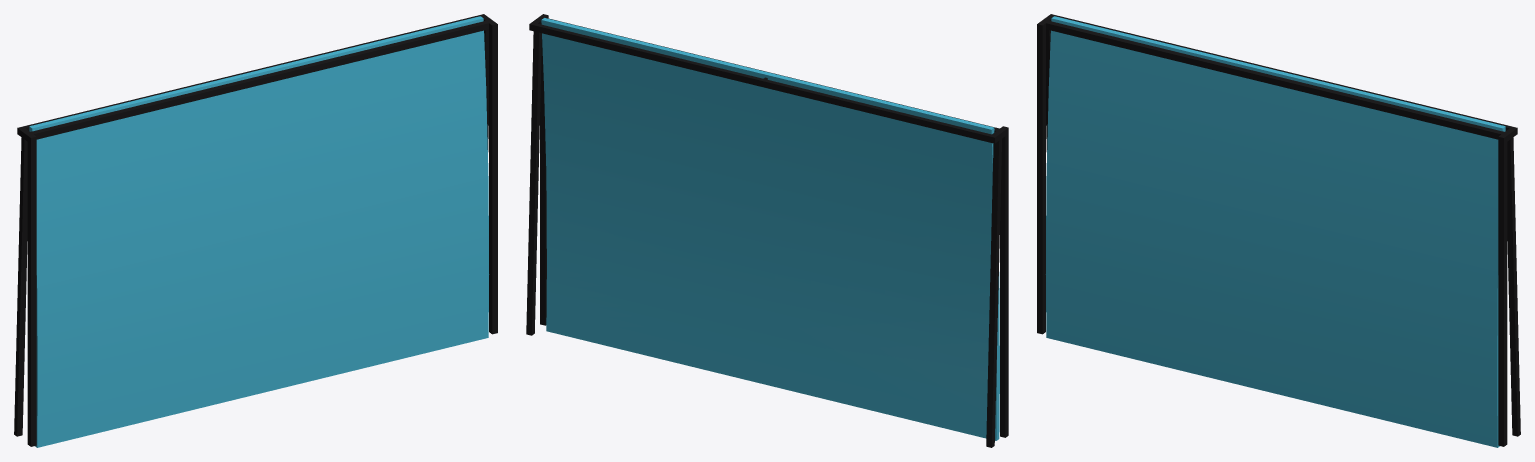
3 views of the same model, side by side, from view 1: azimuth 30°, elevation 25°; view 2: azimuth 150°, elevation 25°; view 3: azimuth 330°, elevation 25° (orthographic).
Parts seen in each view (by area): view 1: Cube.006; view 2: Cube.006; view 3: Cube.006.
Boxes of the visible parts, x1,y1,x2,y2 form: Cube.006: [14, 14, 497, 447]; Cube.006: [526, 14, 1008, 447]; Cube.006: [1037, 14, 1520, 447].
Bounding box in the file's own units: 512 × 331 × 32.26.
